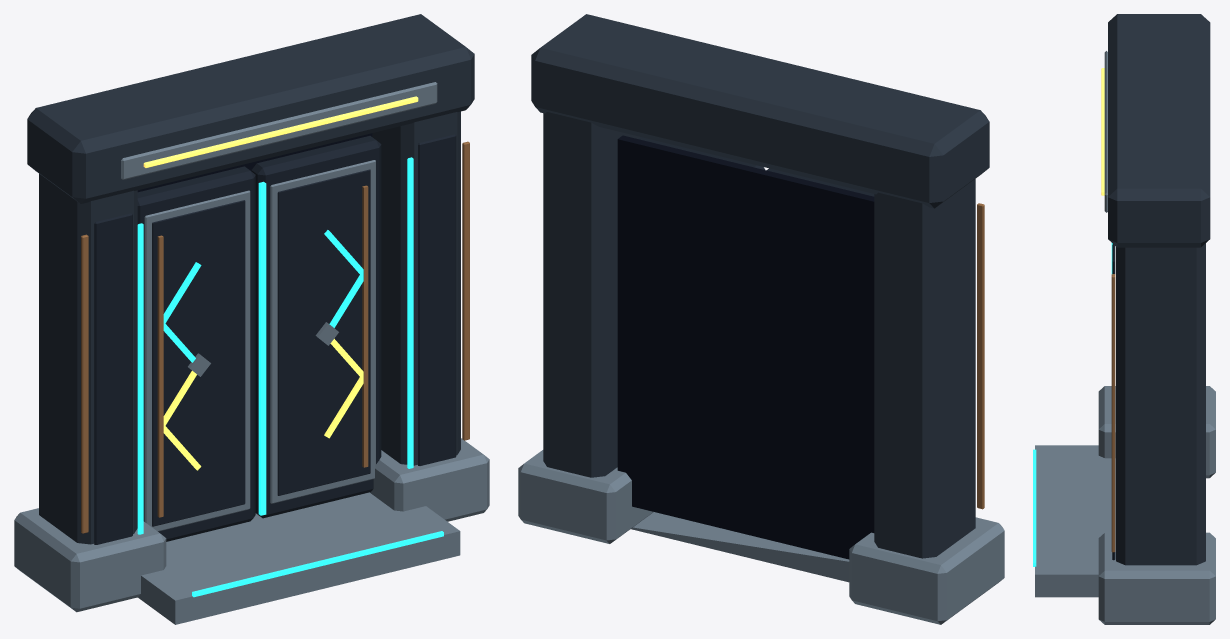
File: intro-portal.glb
3 renders of one model, left to right at view 1: azimuth 30°, elevation 25°; view 2: azimuth 150°, elevation 25°; view 3: azimuth 270°, elevation 25°, orthographic. The views are drawn at different scales.
Parts seen in each view (by area): view 1: Intro_Lintel, Intro_DoorInset_L, Intro_DoorInset_R, Intro_ThresholdSill, Intro_Pillar_L, Intro_Pillar_R, Intro_PillarInlay_R, Intro_PillarInlay_L, Intro_Plinth_L, Intro_DoorLeaf_R, Intro_DoorLeaf_L, Intro_Plinth_R (+13 smaller); view 2: Intro_VoidBacking, Intro_Lintel, Intro_Pillar_L, Intro_Pillar_R, Intro_Plinth_L, Intro_Plinth_R, Intro_ThresholdSill, Intro_CopperRail_L; view 3: Intro_Pillar_R, Intro_Lintel, Intro_ThresholdSill, Intro_Plinth_R, Intro_Plinth_L, Intro_CopperRail_R, Intro_LintelIron, Intro_LintelGlow, Intro_ThresholdLine.
Boxes of the visible parts, left/top/right/bottom form: Intro_Lintel: left=27, top=14, right=474, bottom=203; Intro_DoorInset_L: left=152, top=200, right=245, bottom=526; Intro_DoorInset_R: left=277, top=169, right=370, bottom=495; Intro_ThresholdSill: left=138, top=492, right=460, bottom=624; Intro_Pillar_L: left=39, top=174, right=137, bottom=544; Intro_Pillar_R: left=372, top=111, right=460, bottom=465; Intro_PillarInlay_R: left=418, top=134, right=456, bottom=465; Intro_PillarInlay_L: left=94, top=213, right=132, bottom=544; Intro_Plinth_L: left=14, top=508, right=166, bottom=612; Intro_DoorLeaf_R: left=251, top=136, right=381, bottom=518; Intro_DoorLeaf_L: left=137, top=166, right=255, bottom=541; Intro_Plinth_R: left=370, top=438, right=489, bottom=521; Intro_VoidBacking: left=617, top=135, right=874, bottom=559; Intro_Lintel: left=531, top=14, right=989, bottom=208; Intro_Pillar_L: left=874, top=179, right=975, bottom=558; Intro_Pillar_R: left=543, top=112, right=639, bottom=477; Intro_Plinth_L: left=849, top=517, right=1004, bottom=624; Intro_Plinth_R: left=518, top=450, right=653, bottom=543; Intro_ThresholdSill: left=631, top=512, right=849, bottom=582; Intro_CopperRail_L: left=977, top=203, right=984, bottom=509; Intro_Pillar_R: left=1116, top=243, right=1205, bottom=565; Intro_Lintel: left=1108, top=14, right=1210, bottom=247; Intro_ThresholdSill: left=1035, top=445, right=1115, bottom=597; Intro_Plinth_R: left=1098, top=532, right=1215, bottom=624; Intro_Plinth_L: left=1098, top=386, right=1215, bottom=478; Intro_CopperRail_R: left=1111, top=274, right=1115, bottom=552; Intro_LintelIron: left=1104, top=51, right=1107, bottom=212; Intro_LintelGlow: left=1101, top=68, right=1104, bottom=195; Intro_ThresholdLine: left=1033, top=449, right=1036, bottom=566.
Size of the model in its own units: 3.6 by 3.81 by 1.46.
